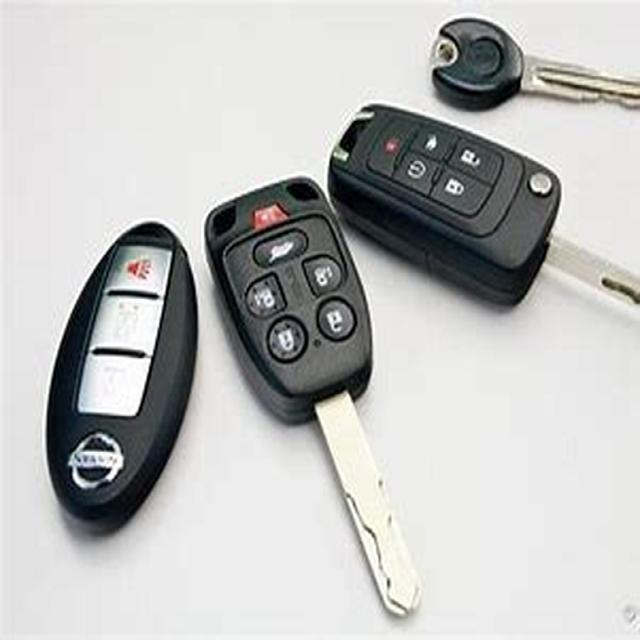key: (167, 111, 428, 631), (305, 99, 640, 344), (43, 176, 198, 566), (367, 2, 640, 120)
